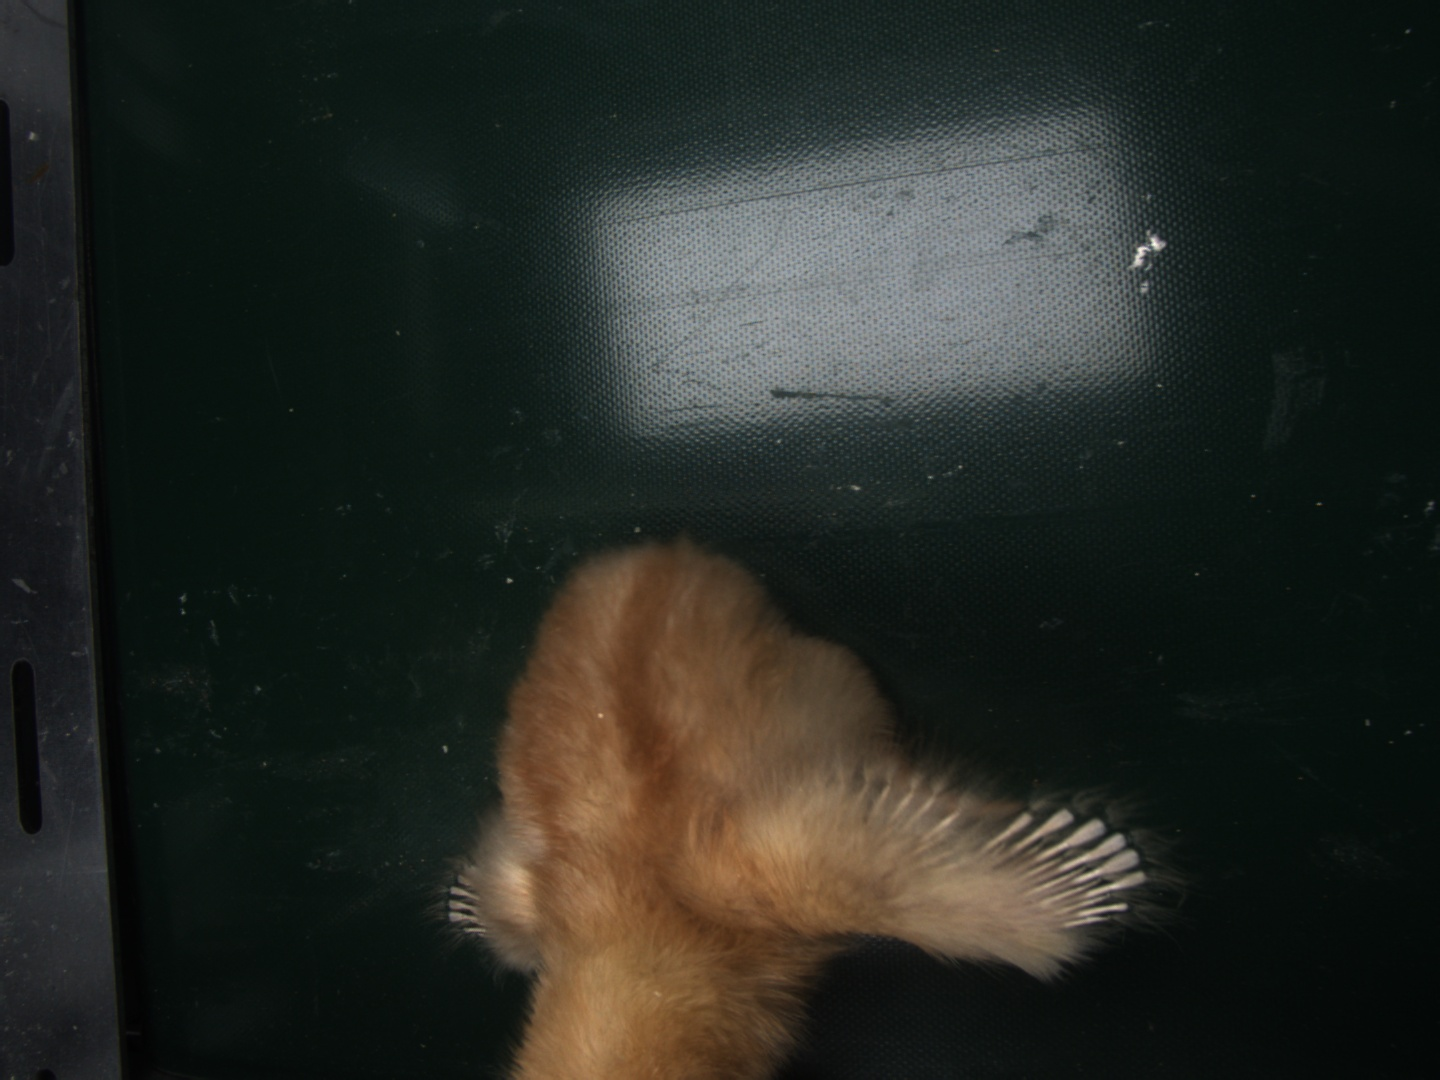female: (973, 811, 1147, 927)
